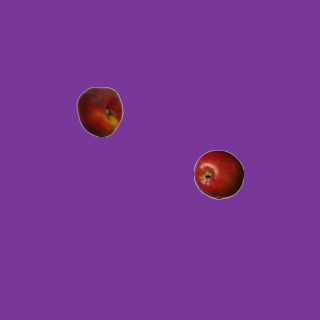Apple Braeburn: (193, 149, 243, 199)
Nectarine Flat: (74, 86, 124, 136)
